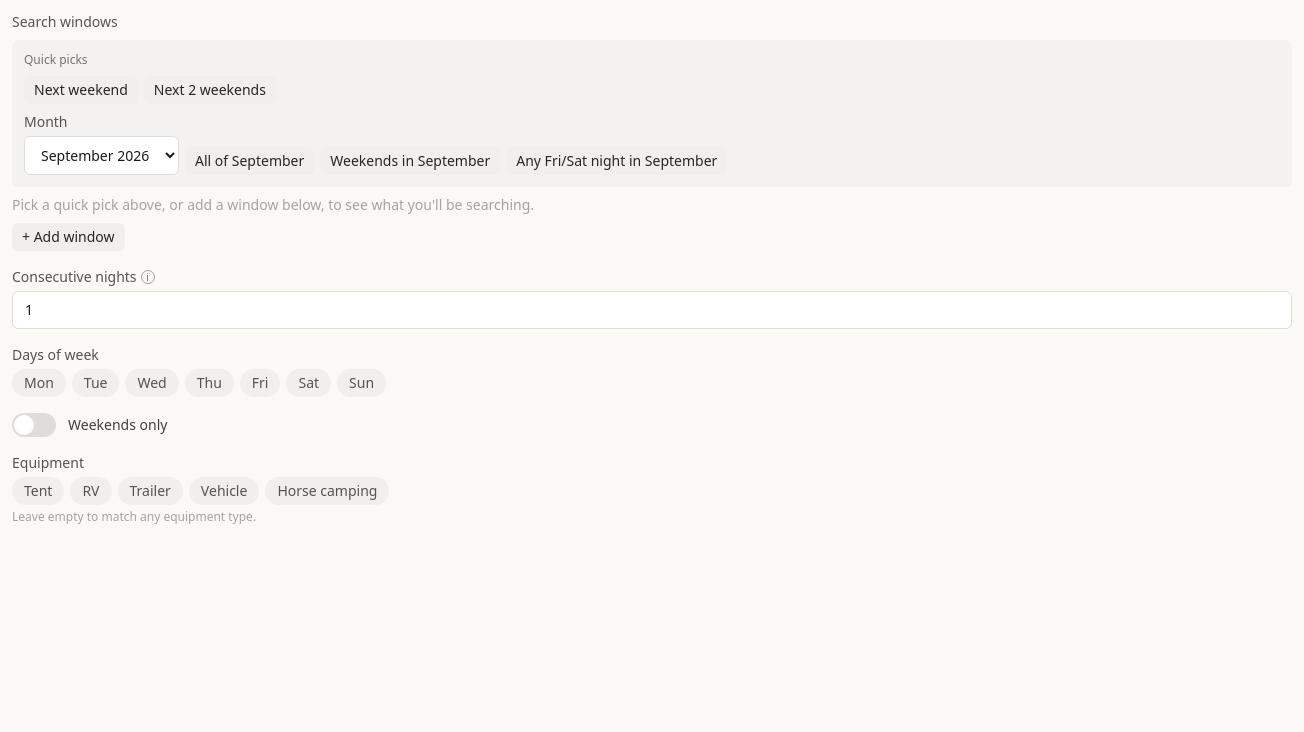
Test: DatesFiltersFields — search summary and window labels › summarises a month template in nights, never showing the exclusive end date
Step 1. Select "October 2026" in the dropdown labelled "Month" → (102, 156), box [24,136,179,175]
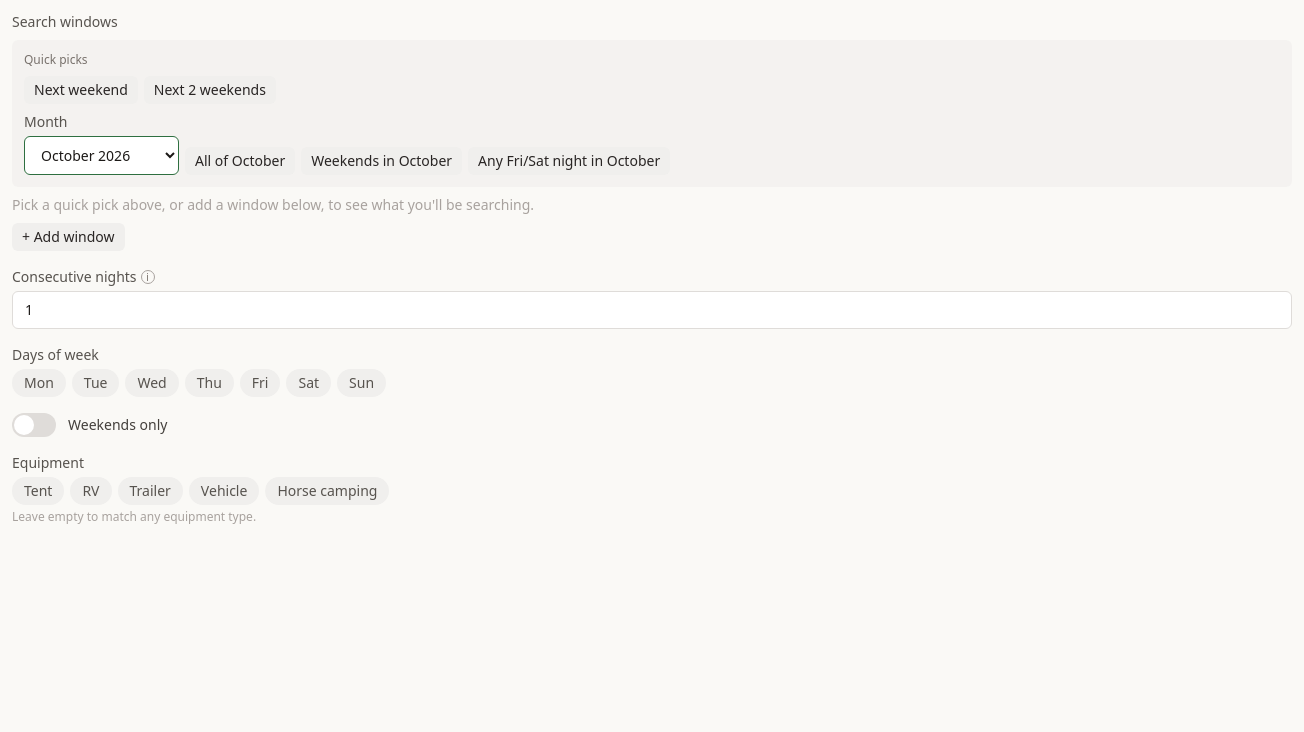
Step 2. Click the button "All of October" → click(240, 161), box [185,147,295,175]
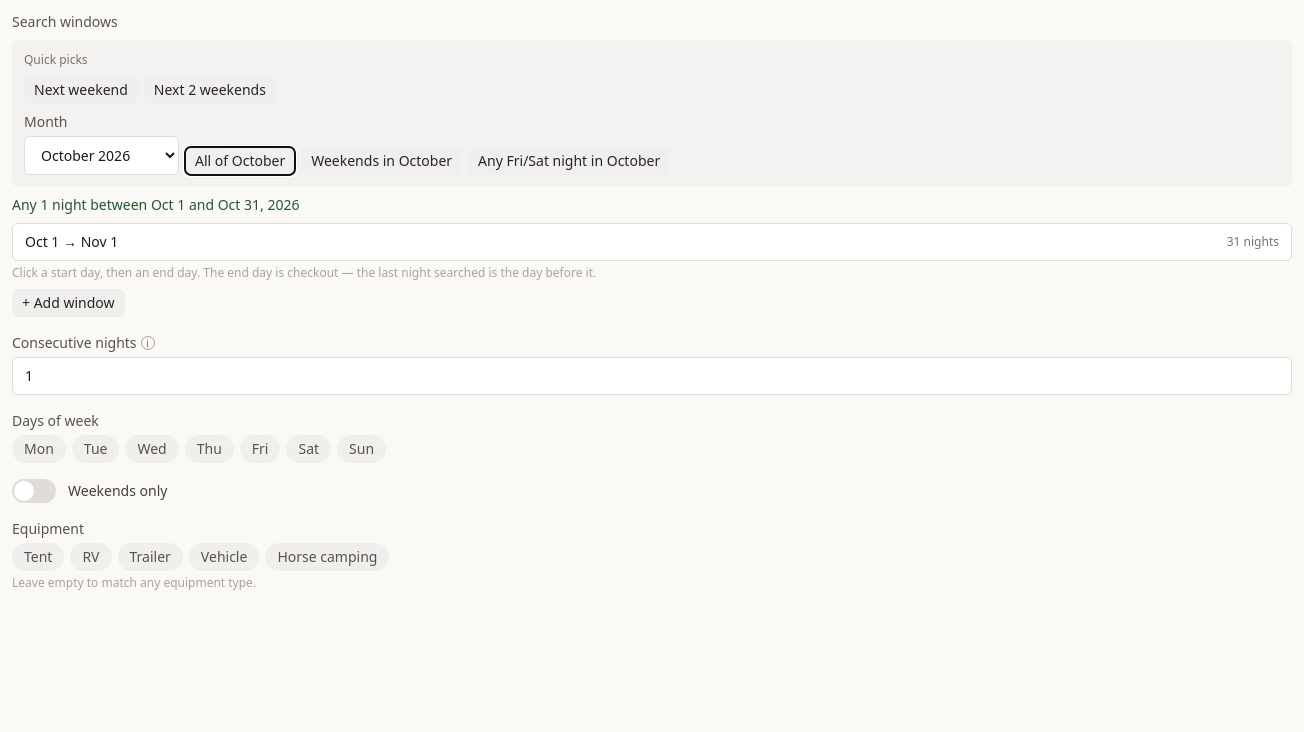
Expected: the text with test id "search-summary" does not show "Nov", [12,195,299,214]
Expected: the text with test id "search-summary" reads "Any 1 night between Oct 1 and Oct 31, 2026", [12,195,299,214]
